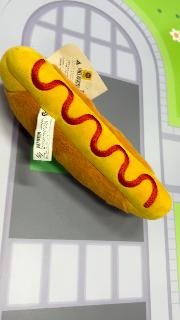hotdog: (1, 46, 173, 220)
